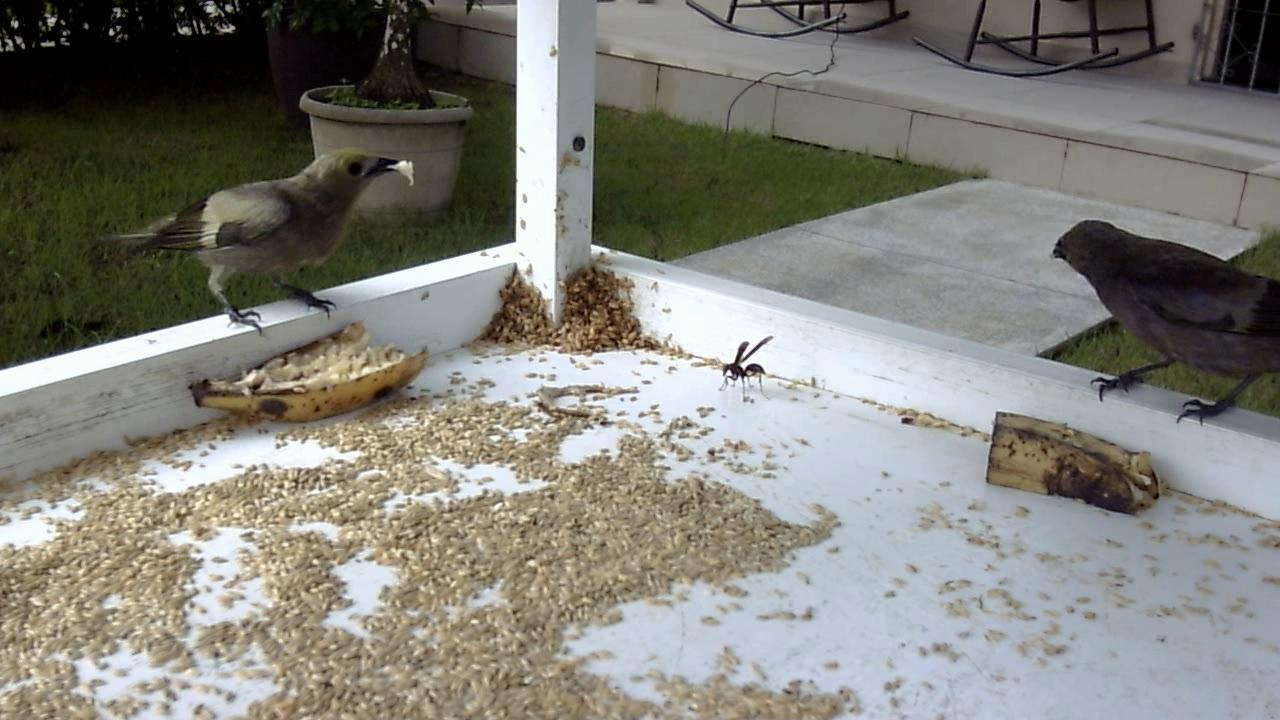sanhaco_do_coqueiro: (96, 135, 416, 348), (1034, 207, 1278, 449)
